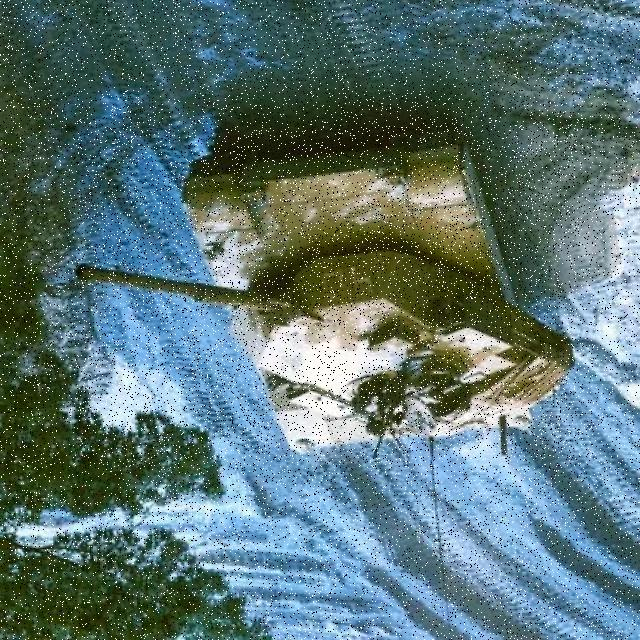MIL_MBT: (73, 120, 575, 460)
